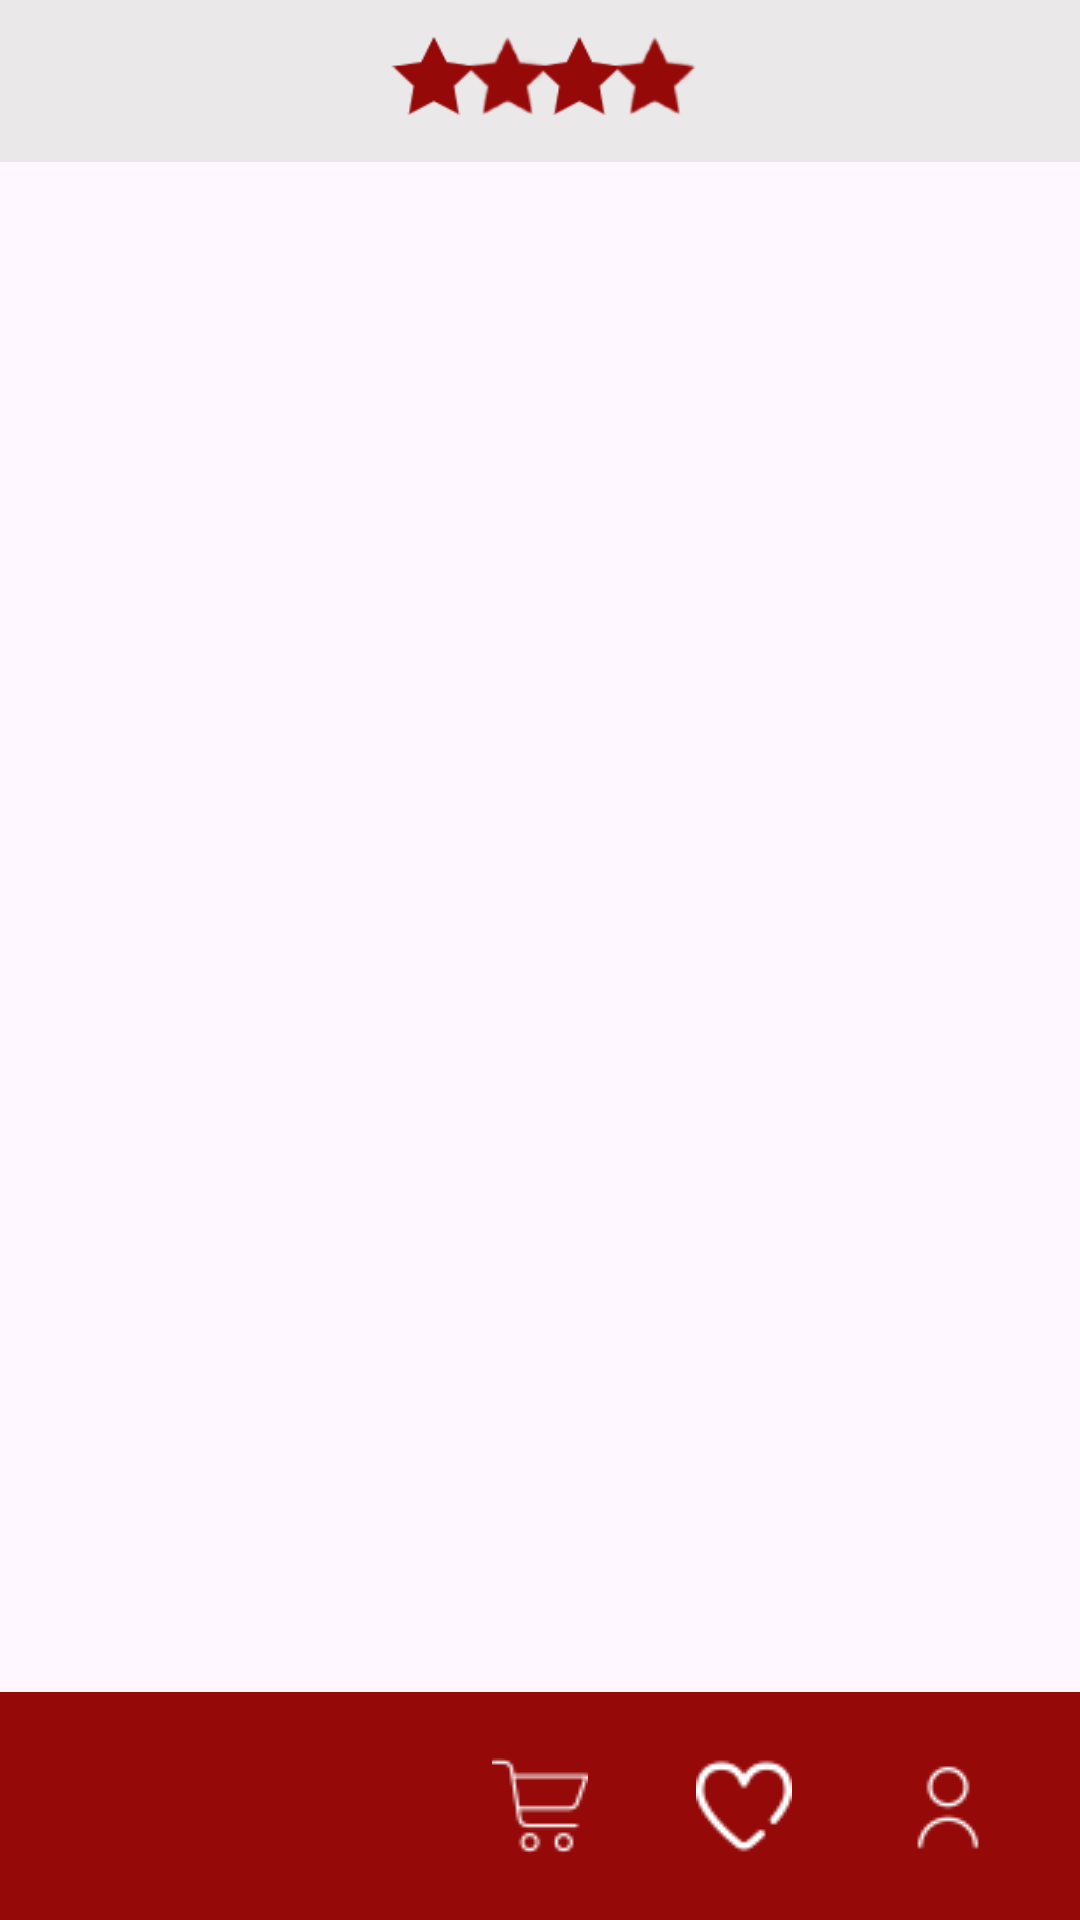

Screen size 1080*1920. Icon name, then its center in pixels as point (x, y):
cart: point (540, 1805)
heart: point (744, 1806)
profile: point (948, 1807)
